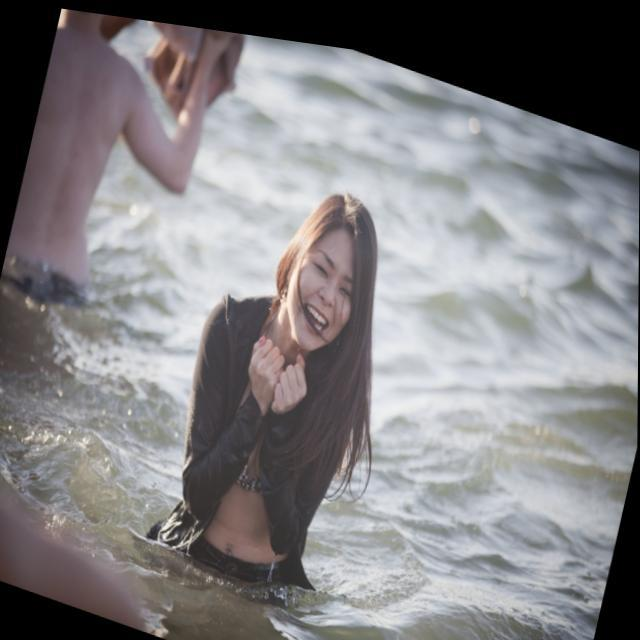Nonhelmet: (261, 191, 379, 370)
